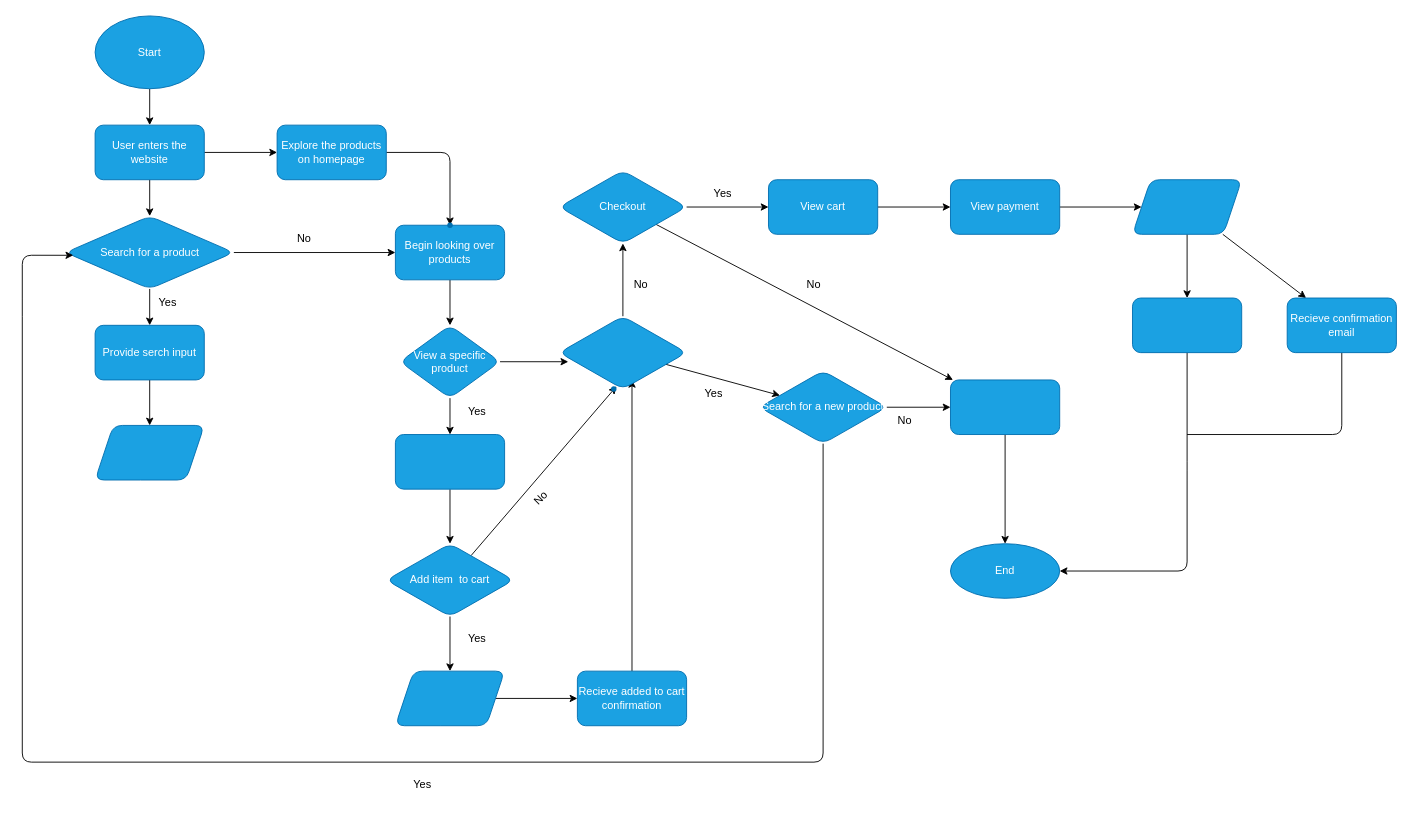
Some shapes in this 1412 by 814 pixel diagram are drawn without their labels. Here are the shapes that lost their labels. From the top down, the centre of each, then its label:
At point 1187,206: "Read payment info".
At point 1187,325: "Confirmatin Screen".
At point 622,352: "Continue shopping".
At point 1005,407: "User leaves".
At point 149,452: "Read serch input".
At point 449,461: "Open product's webpage".
At point 449,698: "item added to cart".
